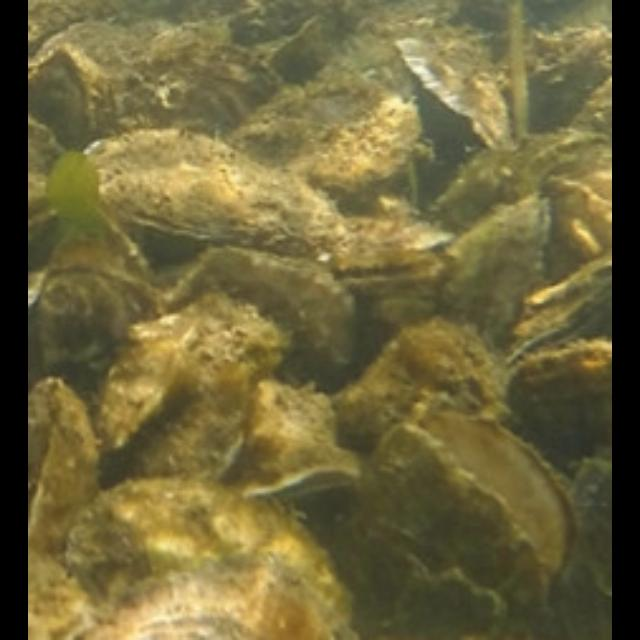Oyster-Closed: (66, 479, 360, 637), (102, 296, 292, 492), (83, 130, 345, 252), (370, 194, 551, 353), (165, 245, 356, 391), (28, 265, 170, 436), (228, 68, 422, 193), (336, 321, 510, 453), (114, 47, 284, 141), (506, 343, 610, 484), (96, 314, 197, 451), (28, 377, 100, 557), (397, 38, 513, 149), (302, 200, 453, 266), (28, 48, 118, 153), (52, 218, 157, 291), (33, 21, 130, 94), (544, 179, 610, 283), (28, 551, 95, 637), (28, 118, 74, 238), (526, 254, 610, 312), (151, 14, 235, 67), (238, 18, 319, 70), (572, 78, 610, 134)
Oyster-Open: (340, 414, 581, 637), (227, 381, 362, 501), (506, 294, 610, 369), (332, 250, 439, 292)
